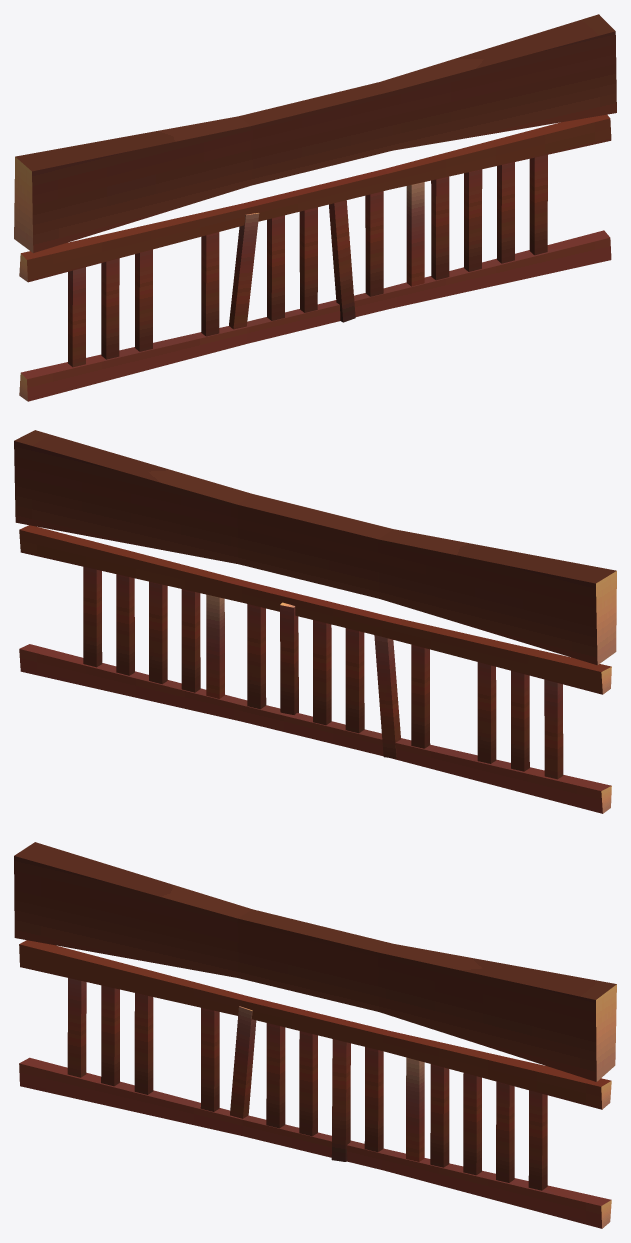
File: Ballustrade_Wood_Low.FBX
3 renders of one model, top to bottom at view 1: azimuth 30°, elevation 25°; view 2: azimuth 150°, elevation 25°; view 3: azimuth 330°, elevation 25°, orthographic.
Visible parts, largest first — view 1: Ballustrade_Wood_Low; view 2: Ballustrade_Wood_Low; view 3: Ballustrade_Wood_Low.
Part boxes in pixels (x1,y1,x2,y2): Ballustrade_Wood_Low: [14, 14, 616, 401]; Ballustrade_Wood_Low: [14, 430, 616, 813]; Ballustrade_Wood_Low: [14, 842, 616, 1228].
Size of the model in its own units: 0.2637 by 0.0153 by 0.1014.
